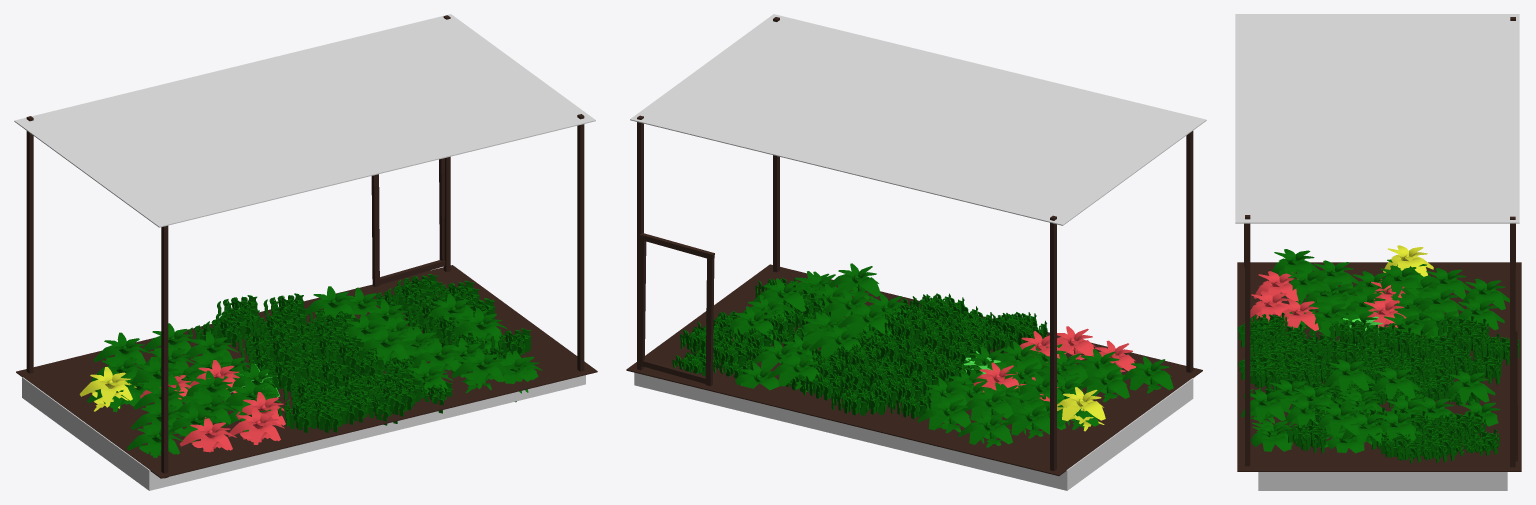
The model's file is jardin_invierno.fbx.
3 renders of one model, left to right at view 1: azimuth 30°, elevation 25°; view 2: azimuth 150°, elevation 25°; view 3: azimuth 270°, elevation 25°, orthographic. The views are drawn at different scales.
Parts seen in each view (by area): view 1: Plane.008, Cube.005; view 2: Plane.008, Cube.005; view 3: Plane.008, Cube.005.
Boxes of the visible parts, left/top/right/bottom form: Plane.008: left=16, top=15, right=597, bottom=490; Cube.005: left=14, top=14, right=595, bottom=227; Plane.008: left=626, top=17, right=1202, bottom=490; Cube.005: left=630, top=14, right=1206, bottom=225; Plane.008: left=1237, top=17, right=1521, bottom=490; Cube.005: left=1235, top=14, right=1519, bottom=223.
Bounding box in the file's own units: 3178 × 1986 × 1830.
